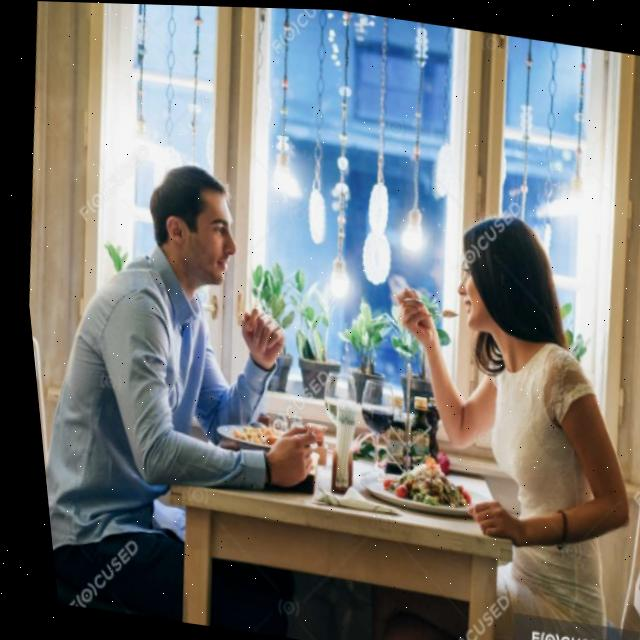eating-person: (8, 104, 363, 640), (272, 144, 640, 640)
